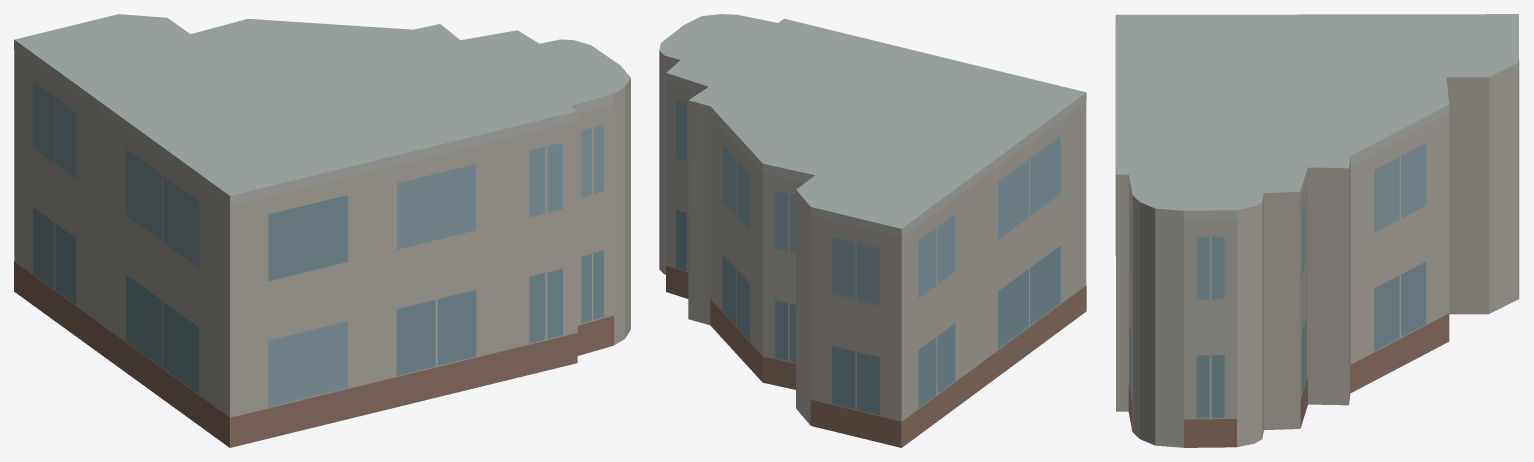
Rendered from survey-upis-32718341.glb.
The picture shows the model from 3 angles, left to right: view 1: azimuth 30°, elevation 25°; view 2: azimuth 150°, elevation 25°; view 3: azimuth 270°, elevation 25°; orthographic projection. The views are drawn at different scales.
Parts seen in each view (by area): view 1: survey-upis-32718341.tmp; view 2: survey-upis-32718341.tmp; view 3: survey-upis-32718341.tmp.
Boxes of the visible parts, <box> form: survey-upis-32718341.tmp: <box>14,14,630,447</box>; survey-upis-32718341.tmp: <box>659,14,1086,447</box>; survey-upis-32718341.tmp: <box>1115,14,1519,447</box>.
Size of the model in its own units: 10.87 by 6.1 by 9.42.
